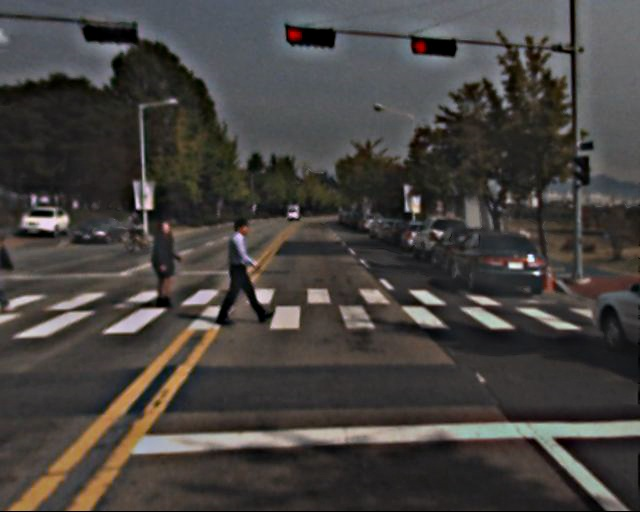person: (220, 213, 265, 324), (146, 215, 184, 308)
